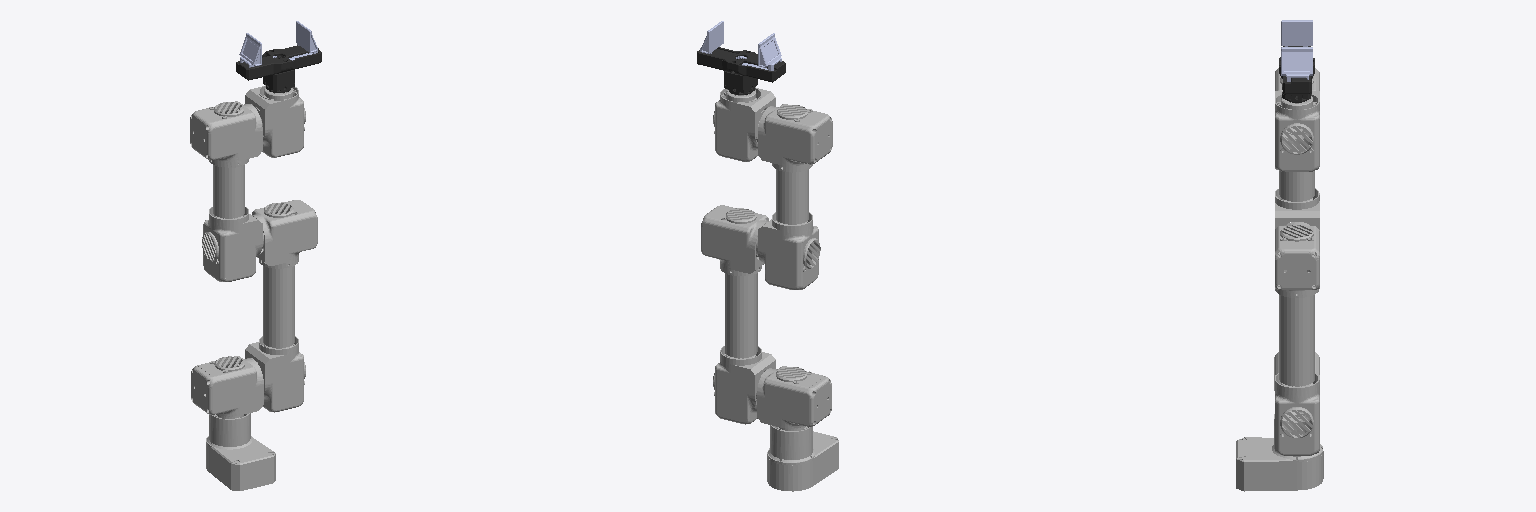
robot.urdf — urdf_viz:
<?xml version="1.0" encoding="utf-8"?>
<!-- This URDF was automatically created by SolidWorks to URDF Exporter! Originally created by [author] ([email redacted]) 
     Commit Version: 1.6.0-4-g7f85cfe  Build Version: 1.6.7995.38578
     For more information, please see http://wiki.ros.org/sw_urdf_exporter -->
<robot name="urdf_viz">
  <link name="world" />
  <joint name="world_to_base" type="fixed">
    <parent link="world" />
    <child link="base_link" />
    <origin xyz="0 0 0" rpy="0 0 0" />
  </joint>
  <link name="base_link">
    <inertial>
      <origin xyz="-2.08175703585237E-05 -0.0215944619942018 -0.0148034940412238" rpy="0 0 0" />
      <mass value="0.226867575584474" />
      <inertia ixx="0.000310138970163127" ixy="3.57652047089435E-08" ixz="2.76570159636922E-09" iyy="0.000172445953154283" iyz="-1.18759040248718E-05" izz="0.000403590658467127" />
    </inertial>
    <visual>
      <origin xyz="0 0 0" rpy="0 0 0" />
      <geometry>
        <mesh filename="package://urdf_viz/meshes/base_link.STL" />
      </geometry>
      <material name="">
        <color rgba="0.752941176470588 0.752941176470588 0.752941176470588 1" />
      </material>
    </visual>
    <collision>
      <origin xyz="0 0 0" rpy="0 0 0" />
      <geometry>
        <mesh filename="package://urdf_viz/meshes/base_link.STL" />
      </geometry>
    </collision>
  </link>
  <link name="link_1">
    <inertial>
      <origin xyz="0.00362239334771706 -3.81795644027599E-05 0.0874826201255688" rpy="0 0 0" />
      <mass value="0.141639977131661" />
      <inertia ixx="8.98141382308835E-05" ixy="1.13468736177936E-08" ixz="3.51673525250542E-06" iyy="9.15722320805618E-05" iyz="3.6542592292488E-08" izz="0.000140053948831358" />
    </inertial>
    <visual>
      <origin xyz="0 0 0" rpy="0 0 0" />
      <geometry>
        <mesh filename="package://urdf_viz/meshes/link_1.STL" />
      </geometry>
      <material name="">
        <color rgba="0.752941176470588 0.752941176470588 0.752941176470588 1" />
      </material>
    </visual>
    <collision>
      <origin xyz="0 0 0" rpy="0 0 0" />
      <geometry>
        <mesh filename="package://urdf_viz/meshes/link_1.STL" />
      </geometry>
    </collision>
  </link>
  <joint name="joint_1" type="revolute">
    <origin xyz="0 0 0" rpy="0 0 0" />
    <parent link="base_link" />
    <child link="link_1" />
    <axis xyz="0 0 1" />
    <limit lower="0" upper="3.14" effort="200" velocity="5" />
  </joint>
  <link name="link_2">
    <inertial>
      <origin xyz="7.53940182482427E-06 0.00505678180282543 0.0842129380713663" rpy="0 0 0" />
      <mass value="0.143507549223786" />
      <inertia ixx="9.77478537604331E-05" ixy="-1.67427633619274E-08" ixz="-1.80834387568082E-08" iyy="9.07459548934156E-05" iyz="3.57849204977034E-06" izz="0.000147113534917112" />
    </inertial>
    <visual>
      <origin xyz="0 0 0" rpy="0 0 0" />
      <geometry>
        <mesh filename="package://urdf_viz/meshes/link_2.STL" />
      </geometry>
      <material name="">
        <color rgba="0.752941176470588 0.752941176470588 0.752941176470588 1" />
      </material>
    </visual>
    <collision>
      <origin xyz="0 0 0" rpy="0 0 0" />
      <geometry>
        <mesh filename="package://urdf_viz/meshes/link_2.STL" />
      </geometry>
    </collision>
  </link>
  <joint name="joint_2" type="revolute">
    <origin xyz="0 0 0.0929" rpy="1.5708 0 1.5708" />
    <parent link="link_1" />
    <child link="link_2" />
    <axis xyz="0 0 1" />
    <limit lower="-1.57" upper="1.57" effort="200" velocity="5" />
  </joint>
  <link name="link_3">
    <inertial>
      <origin xyz="-0.00330775018246698 -1.51931359661378E-05 -0.215292675404989" rpy="0 0 0" />
      <mass value="0.173954075434222" />
      <inertia ixx="0.000144630940442922" ixy="-1.32847181188018E-07" ixz="3.5352602147746E-06" iyy="0.000147338139082199" iyz="-6.41277682296454E-09" izz="0.000161646518516295" />
    </inertial>
    <visual>
      <origin xyz="0 0 0" rpy="0 0 0" />
      <geometry>
        <mesh filename="package://urdf_viz/meshes/link_3.STL" />
      </geometry>
      <material name="">
        <color rgba="0.752941176470588 0.752941176470588 0.752941176470588 1" />
      </material>
    </visual>
    <collision>
      <origin xyz="0 0 0" rpy="0 0 0" />
      <geometry>
        <mesh filename="package://urdf_viz/meshes/link_3.STL" />
      </geometry>
    </collision>
  </link>
  <joint name="joint_3" type="revolute">
    <origin xyz="0 0 0.0895" rpy="1.5708 -1.5708 0" />
    <parent link="link_2" />
    <child link="link_3" />
    <axis xyz="0 0 -1" />
    <limit lower="-3.14" upper="3.14" effort="200" velocity="5" />
  </joint>
  <link name="link_4">
    <inertial>
      <origin xyz="-3.6973238745408E-05 -0.00339659287195765 0.0858843482112302" rpy="0 0 0" />
      <mass value="0.148325167434625" />
      <inertia ixx="9.83824919124809E-05" ixy="-8.95348942307426E-09" ixz="3.53186062441271E-08" iyy="9.24366010340051E-05" iyz="-3.58230406317329E-06" izz="0.000148216123686448" />
    </inertial>
    <visual>
      <origin xyz="0 0 0" rpy="0 0 0" />
      <geometry>
        <mesh filename="package://urdf_viz/meshes/link_4.STL" />
      </geometry>
      <material name="">
        <color rgba="0.752941176470588 0.752941176470588 0.752941176470588 1" />
      </material>
    </visual>
    <collision>
      <origin xyz="0 0 0" rpy="0 0 0" />
      <geometry>
        <mesh filename="package://urdf_viz/meshes/link_4.STL" />
      </geometry>
    </collision>
  </link>
  <joint name="joint_4" type="revolute">
    <origin xyz="0 0 -0.24698520586243" rpy="1.5707963267949 0 -1.5707963267949" />
    <parent link="link_3" />
    <child link="link_4" />
    <axis xyz="0 0 1" />
    <limit lower="-2.09" upper="2.09" effort="200" velocity="5" />
  </joint>
  <link name="link_5">
    <inertial>
      <origin xyz="0.00206792792814741 -2.76614863313207E-05 0.175346578298024" rpy="0 0 0" />
      <mass value="0.170949127914978" />
      <inertia ixx="0.000112877897565311" ixy="1.33876282485779E-07" ixz="3.50583392437512E-06" iyy="0.00011462399449212" iyz="-1.95086999820378E-08" izz="0.000157908884644635" />
    </inertial>
    <visual>
      <origin xyz="0 0 0" rpy="0 0 0" />
      <geometry>
        <mesh filename="package://urdf_viz/meshes/link_5.STL" />
      </geometry>
      <material name="">
        <color rgba="0.752941176470588 0.752941176470588 0.752941176470588 1" />
      </material>
    </visual>
    <collision>
      <origin xyz="0 0 0" rpy="0 0 0" />
      <geometry>
        <mesh filename="package://urdf_viz/meshes/link_5.STL" />
      </geometry>
    </collision>
  </link>
  <joint name="joint_5" type="revolute">
    <origin xyz="0 0 0.090985" rpy="1.5708 1.5708 0" />
    <parent link="link_4" />
    <child link="link_5" />
    <axis xyz="0 0 1" />
    <limit lower="-3.14" upper="3.14" effort="200" velocity="5" />
  </joint>
  <link name="link_6">
    <inertial>
      <origin xyz="4.11085997713834E-05 0.00257530402715245 0.0857796541219091" rpy="0 0 0" />
      <mass value="0.145620756588228" />
      <inertia ixx="9.1789407911568E-05" ixy="-9.76230646696901E-09" ixz="-3.67352230545573E-08" iyy="9.06990729876771E-05" iyz="3.51811623142638E-06" izz="0.000140766609119444" />
    </inertial>
    <visual>
      <origin xyz="0 0 0" rpy="0 0 0" />
      <geometry>
        <mesh filename="package://urdf_viz/meshes/link_6.STL" />
      </geometry>
      <material name="">
        <color rgba="0.752941176470588 0.752941176470588 0.752941176470588 1" />
      </material>
    </visual>
    <collision>
      <origin xyz="0 0 0" rpy="0 0 0" />
      <geometry>
        <mesh filename="package://urdf_viz/meshes/link_6.STL" />
      </geometry>
    </collision>
  </link>
  <joint name="joint_6" type="revolute">
    <origin xyz="0 0 0.19698520586243" rpy="1.5707963267949 0 1.5707963267949" />
    <parent link="link_5" />
    <child link="link_6" />
    <axis xyz="0 0 1" />
    <limit lower="-2.09" upper="2.09" effort="200" velocity="5" />
  </joint>
  <link name="link_7">
    <inertial>
      <origin xyz="2.64411535773335E-05 9.7954550006496E-05 -0.0840589621547128" rpy="0 0 0" />
      <mass value="0.12501071907342" />
      <inertia ixx="2.26293922031708E-05" ixy="2.32911033544145E-06" ixz="8.59002610826771E-10" iyy="0.000128156352411139" iyz="5.558511048017E-09" izz="0.000144851958518916" />
    </inertial>
    <visual>
      <origin xyz="0 0 0" rpy="0 0 0" />
      <geometry>
        <mesh filename="package://urdf_viz/meshes/link_7.STL" />
      </geometry>
      <material name="">
        <color rgba="0.250980392156863 0.250980392156863 0.250980392156863 1" />
      </material>
    </visual>
    <collision>
      <origin xyz="0 0 0" rpy="0 0 0" />
      <geometry>
        <mesh filename="package://urdf_viz/meshes/link_7.STL" />
      </geometry>
    </collision>
  </link>
  <joint name="joint_7" type="revolute">
    <origin xyz="0 0 0.0909852058624294" rpy="1.5707963267949 -1.5707963267949 0" />
    <parent link="link_6" />
    <child link="link_7" />
    <axis xyz="0 0 -1" />
    <limit lower="-2.09" upper="2.09" effort="200" velocity="5" />
  </joint>
  <link name="link_8">
    <inertial>
      <origin xyz="-0.0454469154965145 0.0022533980210059 0.0156033496088577" rpy="0 0 0" />
      <mass value="0.0199960953484895" />
      <inertia ixx="6.85202610096929E-06" ixy="-6.28134392390059E-07" ixz="1.03874099356176E-06" iyy="6.67336841270334E-06" iyz="8.79996273613871E-07" izz="5.95029100616288E-06" />
    </inertial>
    <visual>
      <origin xyz="0 0 0" rpy="0 0 0" />
      <geometry>
        <mesh filename="package://urdf_viz/meshes/link_8.STL" />
      </geometry>
      <material name="">
        <color rgba="0.792156862745098 0.819607843137255 0.933333333333333 1" />
      </material>
    </visual>
    <collision>
      <origin xyz="0 0 0" rpy="0 0 0" />
      <geometry>
        <mesh filename="package://urdf_viz/meshes/link_8.STL" />
      </geometry>
    </collision>
  </link>
  <joint name="joint_8" type="prismatic">
    <origin xyz="0 0 -0.102485205862429" rpy="3.14159265358979 0 0" />
    <parent link="link_7" />
    <child link="link_8" />
    <axis xyz="-1 0 0" />
    <limit lower="-0.0435" upper="0" effort="200" velocity="1" />
  </joint>
  <link name="link_9">
    <inertial>
      <origin xyz="0.0454469154965374 -0.00225339802100588 0.0156033496088577" rpy="0 0 0" />
      <mass value="0.0199960953484895" />
      <inertia ixx="6.85202610096931E-06" ixy="-6.28134392390059E-07" ixz="-1.03874099356176E-06" iyy="6.67336841270336E-06" iyz="-8.79996273613867E-07" izz="5.9502910061629E-06" />
    </inertial>
    <visual>
      <origin xyz="0 0 0" rpy="0 0 0" />
      <geometry>
        <mesh filename="package://urdf_viz/meshes/link_9.STL" />
      </geometry>
      <material name="">
        <color rgba="0.792156862745098 0.819607843137255 0.933333333333333 1" />
      </material>
    </visual>
    <collision>
      <origin xyz="0 0 0" rpy="0 0 0" />
      <geometry>
        <mesh filename="package://urdf_viz/meshes/link_9.STL" />
      </geometry>
    </collision>
  </link>
  <joint name="joint_9" type="prismatic">
    <origin xyz="0 0 -0.102485205862429" rpy="3.14159265358979 0 0" />
    <parent link="link_7" />
    <child link="link_9" />
    <axis xyz="-1 0 0" />
    <limit lower="0" upper="0.0435" effort="200" velocity="1" />
  </joint>
</robot>

--- What the picture shows (computed from the rendered views, not written in the file) ---
3 views of the same robot in one strip: view 1: azimuth 30°, elevation 25°; view 2: azimuth 150°, elevation 25°; view 3: azimuth 270°, elevation 25° (orthographic).
Robot: urdf_viz — 11 links, 10 joints (7 revolute, 2 prismatic, 1 fixed); root link world; default pose: all joints at 0.
Visible links, largest first — view 1: link_3, link_5, base_link, link_1, link_4, link_6, link_2, link_7, link_8; view 2: link_3, link_5, link_1, base_link, link_4, link_6, link_2, link_7, link_8; view 3: link_3, base_link, link_6, link_2, link_5, link_4, link_9, link_8, link_7.
Boxes of the visible links, bbox=[...] form: link_3: bbox=[252, 200, 317, 347]; link_5: bbox=[190, 101, 262, 218]; base_link: bbox=[206, 413, 275, 490]; link_1: bbox=[191, 356, 263, 416]; link_4: bbox=[202, 207, 262, 281]; link_6: bbox=[245, 85, 305, 157]; link_2: bbox=[245, 336, 305, 412]; link_7: bbox=[236, 45, 321, 92]; link_8: bbox=[239, 33, 276, 67]; link_3: bbox=[701, 205, 768, 357]; link_5: bbox=[758, 104, 832, 224]; link_1: bbox=[756, 366, 831, 428]; base_link: bbox=[767, 425, 838, 491]; link_4: bbox=[758, 212, 820, 289]; link_6: bbox=[713, 87, 775, 161]; link_2: bbox=[713, 346, 775, 424]; link_7: bbox=[697, 47, 785, 94]; link_8: bbox=[742, 33, 781, 70]; link_3: bbox=[1275, 222, 1319, 386]; base_link: bbox=[1236, 414, 1323, 491]; link_6: bbox=[1275, 91, 1319, 171]; link_2: bbox=[1275, 373, 1319, 455]; link_5: bbox=[1275, 68, 1319, 201]; link_4: bbox=[1275, 188, 1319, 229]; link_9: bbox=[1281, 47, 1312, 81]; link_8: bbox=[1281, 20, 1312, 46]; link_7: bbox=[1279, 46, 1314, 102].
Bounding box of the posed robot: 0.2149 × 0.1235 × 0.7389 m (x, y, z).
Meshes: 10 distinct files referenced, 10 mesh visuals loaded (10 binary STL).